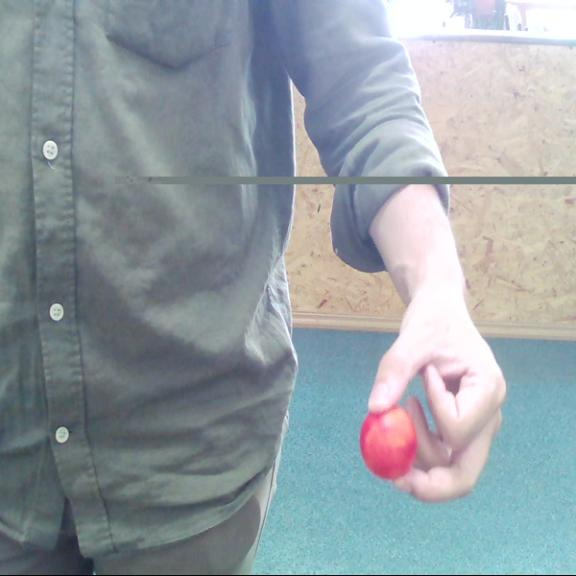ball: (355, 405, 418, 483)
